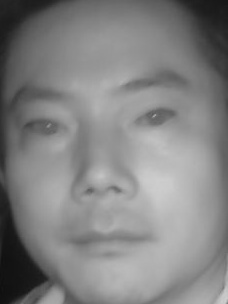eye: (20, 113, 69, 142), (128, 106, 178, 134)
mouth: (68, 212, 156, 263)
